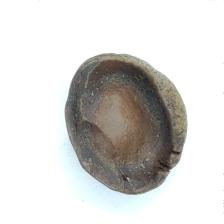NG: (74, 59, 171, 187)
